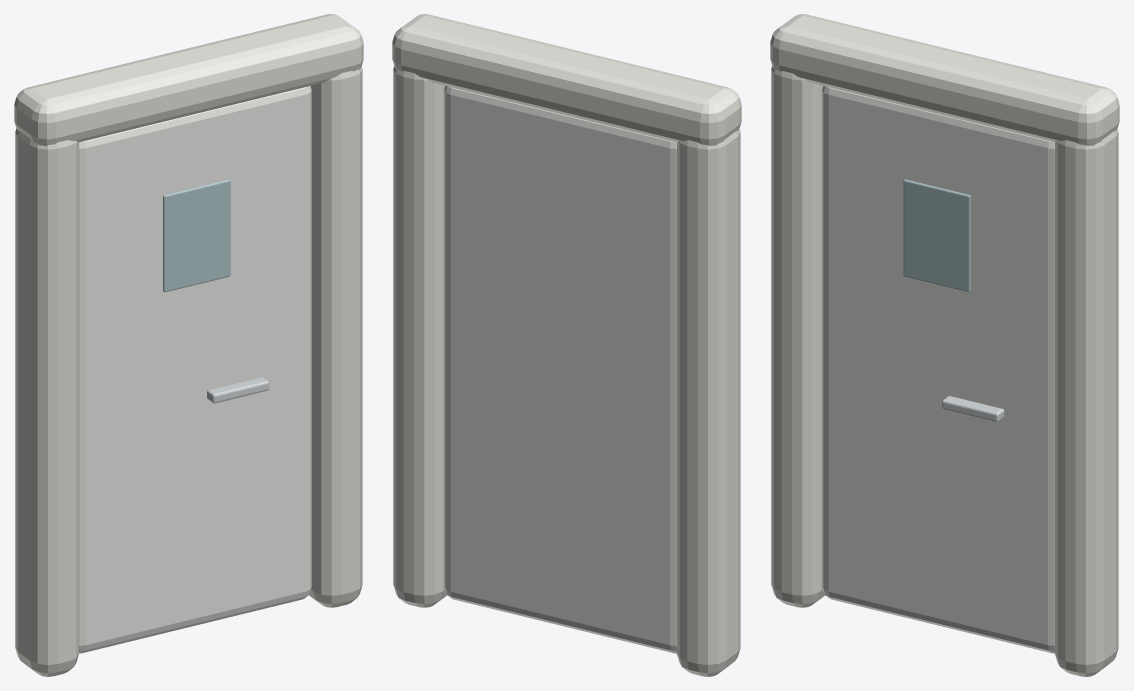
File: aircraft-entry-door.glb
3 renders of one model, left to right at view 1: azimuth 30°, elevation 25°; view 2: azimuth 150°, elevation 25°; view 3: azimuth 330°, elevation 25°, orthographic.
Parts seen in each view (by area): view 1: DoorPanel, DoorJamb-0.55, DoorJamb0.55, DoorHeader, Window, DoorHandle; view 2: DoorPanel, DoorJamb-0.55, DoorJamb0.55, DoorHeader; view 3: DoorPanel, DoorJamb0.55, DoorJamb-0.55, DoorHeader, Window, DoorHandle.
Part boxes in pixels (box(x1,y1,x2,y2)): DoorPanel: box(79, 86, 311, 653); DoorJamb-0.55: box(15, 128, 78, 676); DoorJamb0.55: box(309, 66, 362, 607); DoorHeader: box(14, 14, 363, 145); Window: box(163, 179, 230, 292); DoorHandle: box(207, 377, 269, 403); DoorPanel: box(444, 86, 676, 653); DoorJamb-0.55: box(677, 128, 740, 676); DoorJamb0.55: box(393, 66, 446, 607); DoorHeader: box(392, 14, 741, 145); DoorPanel: box(822, 86, 1054, 653); DoorJamb0.55: box(1055, 128, 1118, 676); DoorJamb-0.55: box(771, 66, 824, 607); DoorHeader: box(770, 14, 1119, 145); Window: box(903, 179, 970, 292); DoorHandle: box(942, 396, 1004, 422).
Bounding box in the file's own units: 1.28 × 2.14 × 0.22.
